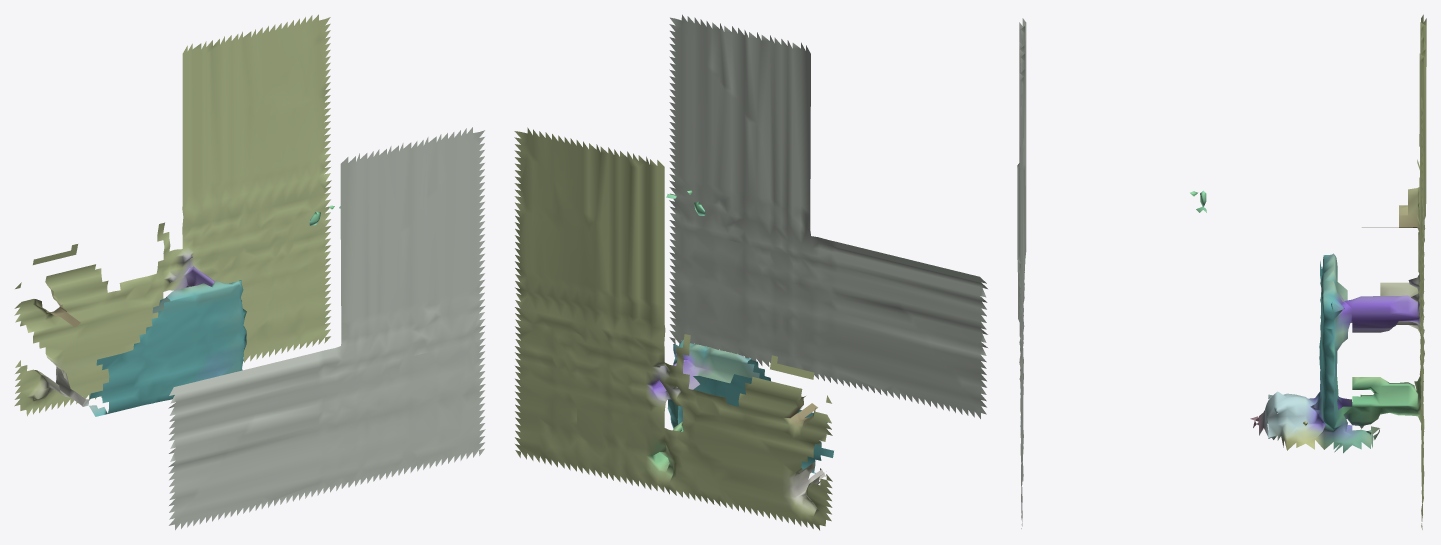
File: tile_7e4ccbd5fe0e_0_-1_0_0_lod1.glb
The picture shows the model from 3 angles, left to right: view 1: azimuth 30°, elevation 25°; view 2: azimuth 150°, elevation 25°; view 3: azimuth 270°, elevation 25°; orthographic projection. The views are drawn at different scales.
Size of the model in its own units: 4.08 by 4.08 by 3.52.
